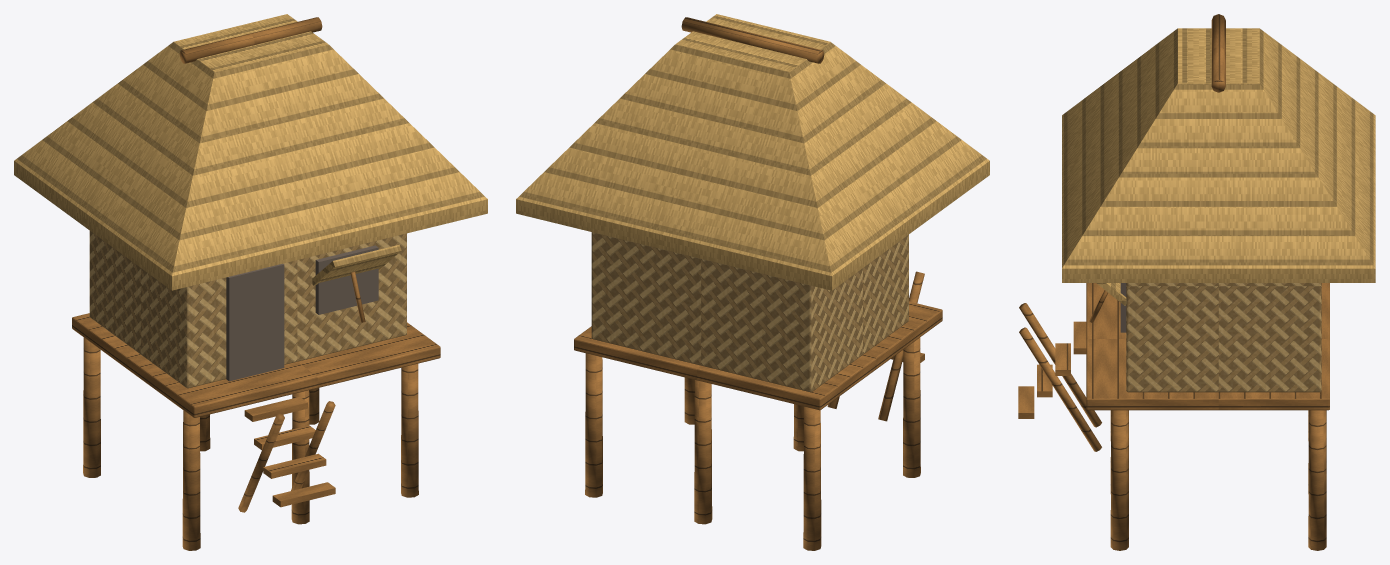
File: kubo_bg.glb
3 renders of one model, left to right at view 1: azimuth 30°, elevation 25°; view 2: azimuth 150°, elevation 25°; view 3: azimuth 270°, elevation 25°, orthographic.
Visible parts, largest first — view 1: Batch_KuboNipa, Batch_KuboBamboo, Batch_KuboSawali, Batch_KuboDark; view 2: Batch_KuboNipa, Batch_KuboSawali, Batch_KuboBamboo; view 3: Batch_KuboNipa, Batch_KuboSawali, Batch_KuboBamboo.
Boxes of the visible parts, x1,y1,x2,y2 form: Batch_KuboNipa: [14, 14, 487, 290]; Batch_KuboBamboo: [72, 17, 440, 550]; Batch_KuboSawali: [89, 231, 406, 388]; Batch_KuboDark: [226, 245, 378, 381]; Batch_KuboNipa: [516, 14, 989, 290]; Batch_KuboSawali: [591, 232, 908, 392]; Batch_KuboBamboo: [574, 17, 942, 550]; Batch_KuboNipa: [1062, 28, 1375, 305]; Batch_KuboSawali: [1126, 283, 1321, 392]; Batch_KuboBamboo: [1018, 14, 1329, 550].
Bounding box in the file's own units: 2.75 × 3.74 × 2.71.
Materials: 4 (3 with a texture image).
